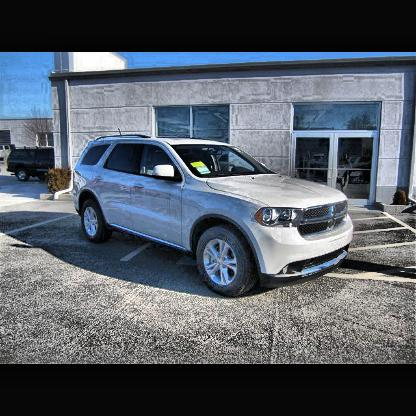Dodge Durango SUV 2012: (71, 127, 355, 302)
